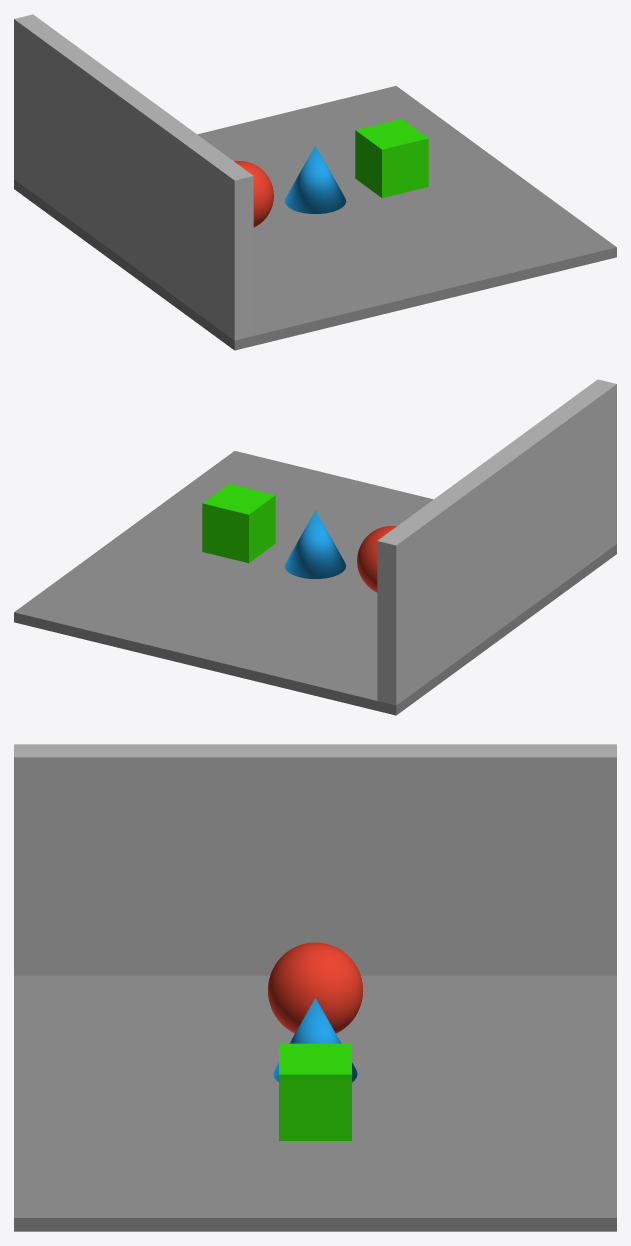
File: TestScene.fbx
The picture shows the model from 3 angles, top to bottom: view 1: azimuth 30°, elevation 25°; view 2: azimuth 150°, elevation 25°; view 3: azimuth 270°, elevation 25°; orthographic projection. The views are drawn at different scales.
Parts seen in each view (by area): view 1: Floor, Wall, Cube, Cone, Sphere; view 2: Floor, Wall, Cube, Cone, Sphere; view 3: Floor, Wall, Cube, Sphere, Cone.
Part boxes in pixels (<box>): Floor: <box>14,86,616,350</box>; Wall: <box>14,14,253,340</box>; Cube: <box>355,119,428,198</box>; Cone: <box>284,145,346,213</box>; Sphere: <box>234,161,273,227</box>; Floor: <box>14,451,616,715</box>; Wall: <box>377,379,616,705</box>; Cube: <box>202,484,275,563</box>; Cone: <box>284,510,346,578</box>; Sphere: <box>357,526,396,592</box>; Floor: <box>14,975,616,1231</box>; Wall: <box>14,744,616,975</box>; Cube: <box>279,1043,351,1140</box>; Sphere: <box>268,942,362,1033</box>; Cone: <box>273,998,357,1082</box>.
Bounding box in the file's own units: 20 × 8.5 × 20.
